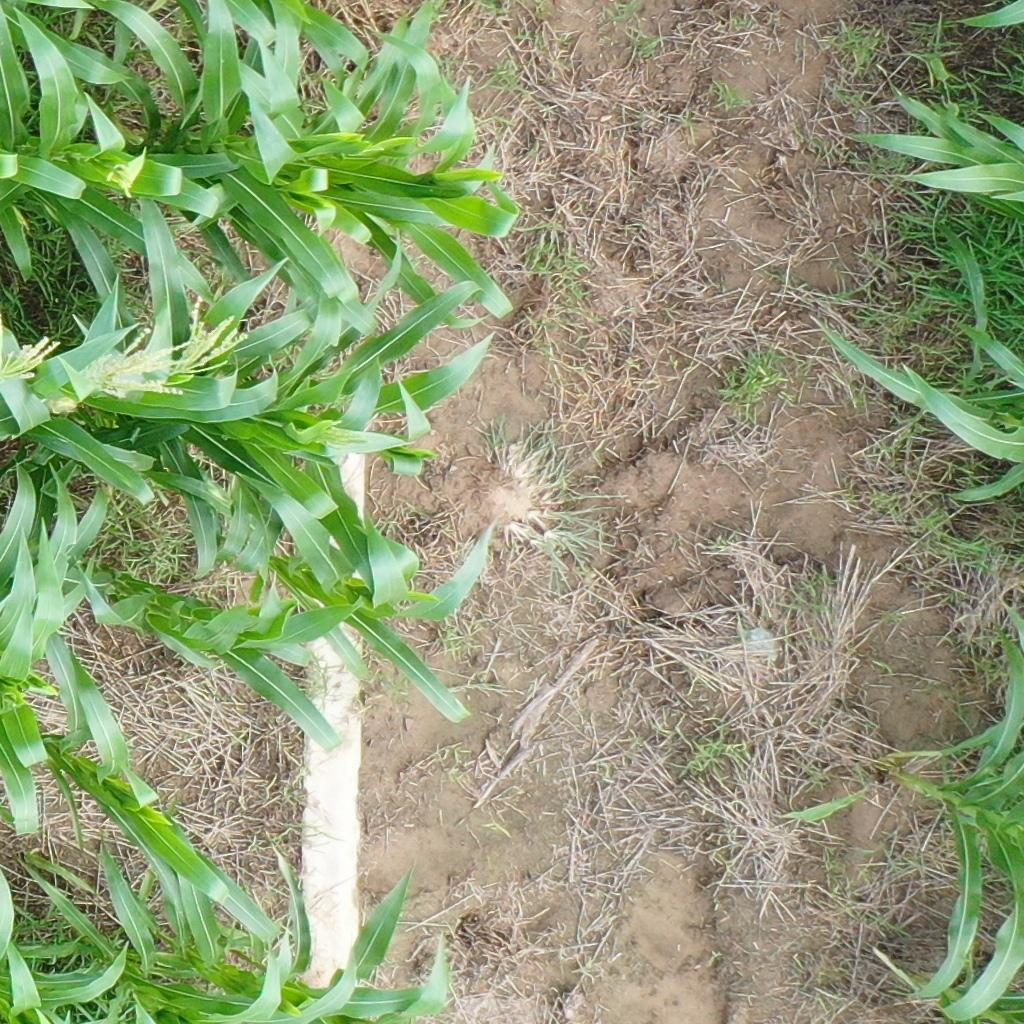Tassel: (78, 296, 248, 406), (1, 317, 62, 383), (304, 417, 368, 454), (104, 159, 136, 198), (21, 684, 58, 698)
